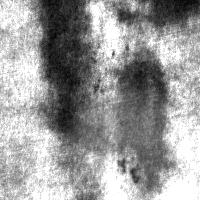patches: (63, 81, 187, 200), (36, 1, 98, 152), (115, 52, 174, 190), (113, 1, 200, 26)
